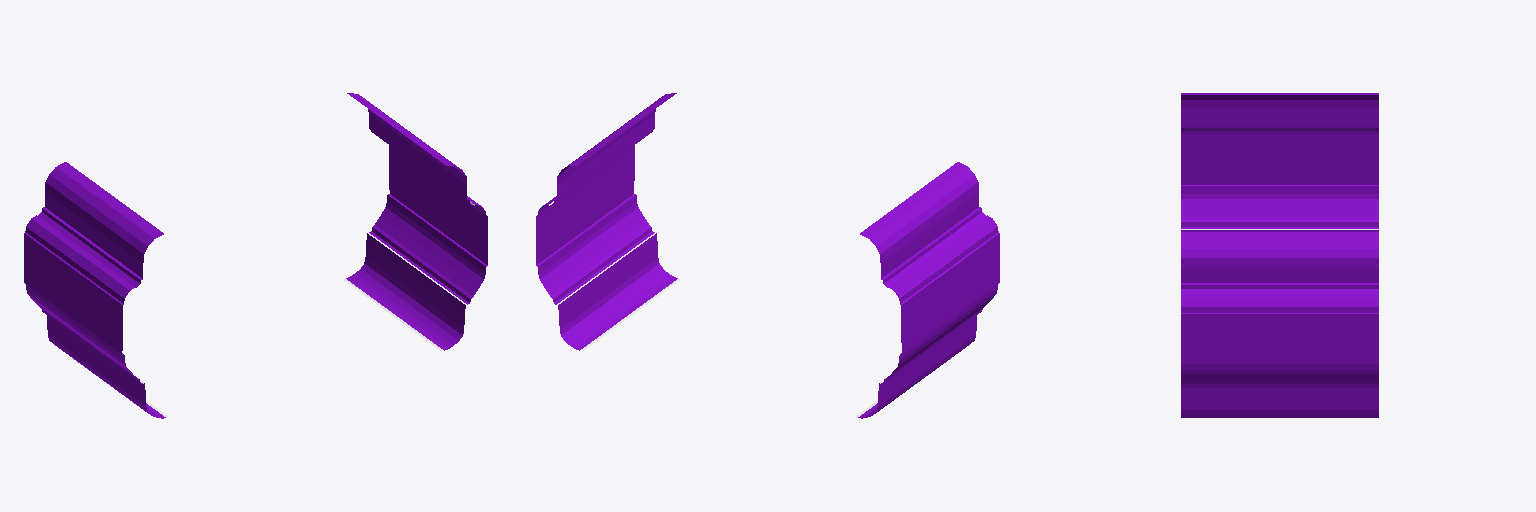
Rendered from SideHousingWalls.obj.
3 renders of one model, left to right at view 1: azimuth 30°, elevation 25°; view 2: azimuth 150°, elevation 25°; view 3: azimuth 270°, elevation 25°, orthographic.
Visible parts, largest first — view 1: SideHousingWalls; view 2: SideHousingWalls; view 3: SideHousingWalls.
Part boxes in pixels (x1,y1,x2,y2): SideHousingWalls: (24, 93, 487, 418); SideHousingWalls: (536, 93, 999, 418); SideHousingWalls: (1181, 93, 1378, 417).
Bounding box in the file's own units: 19.94 × 9.64 × 9.33.